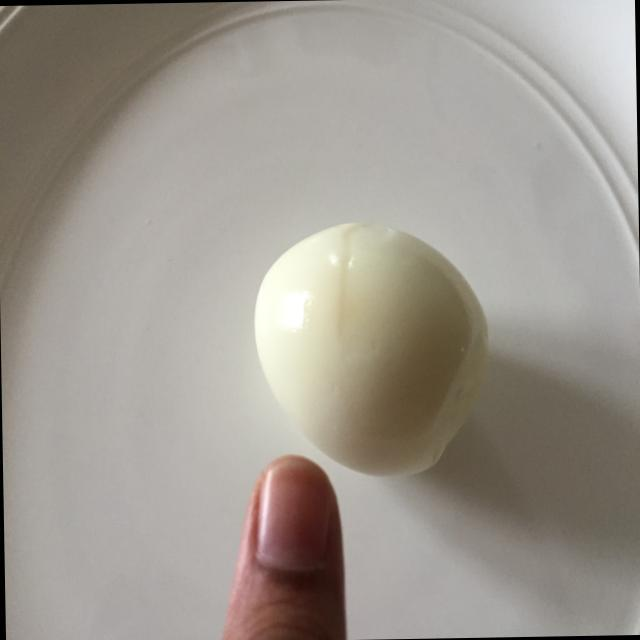Egg: (243, 208, 506, 460)
Finger: (210, 464, 349, 640)
